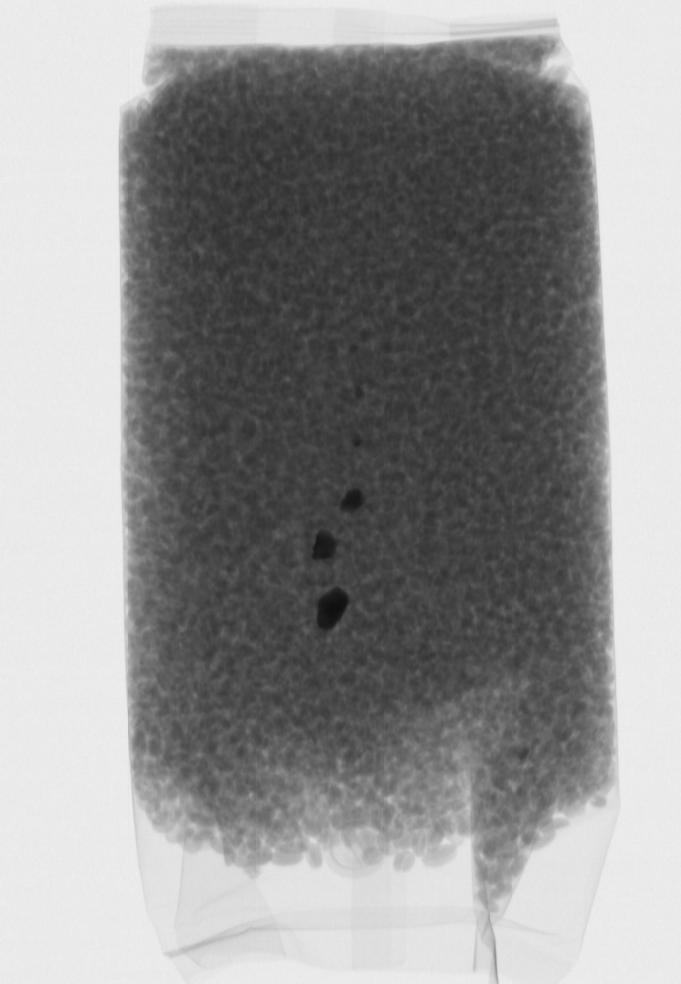stone: (311, 580, 356, 638), (339, 478, 372, 516), (314, 526, 342, 567), (351, 381, 364, 402), (354, 432, 369, 450)
stone_area: (292, 354, 399, 654)
